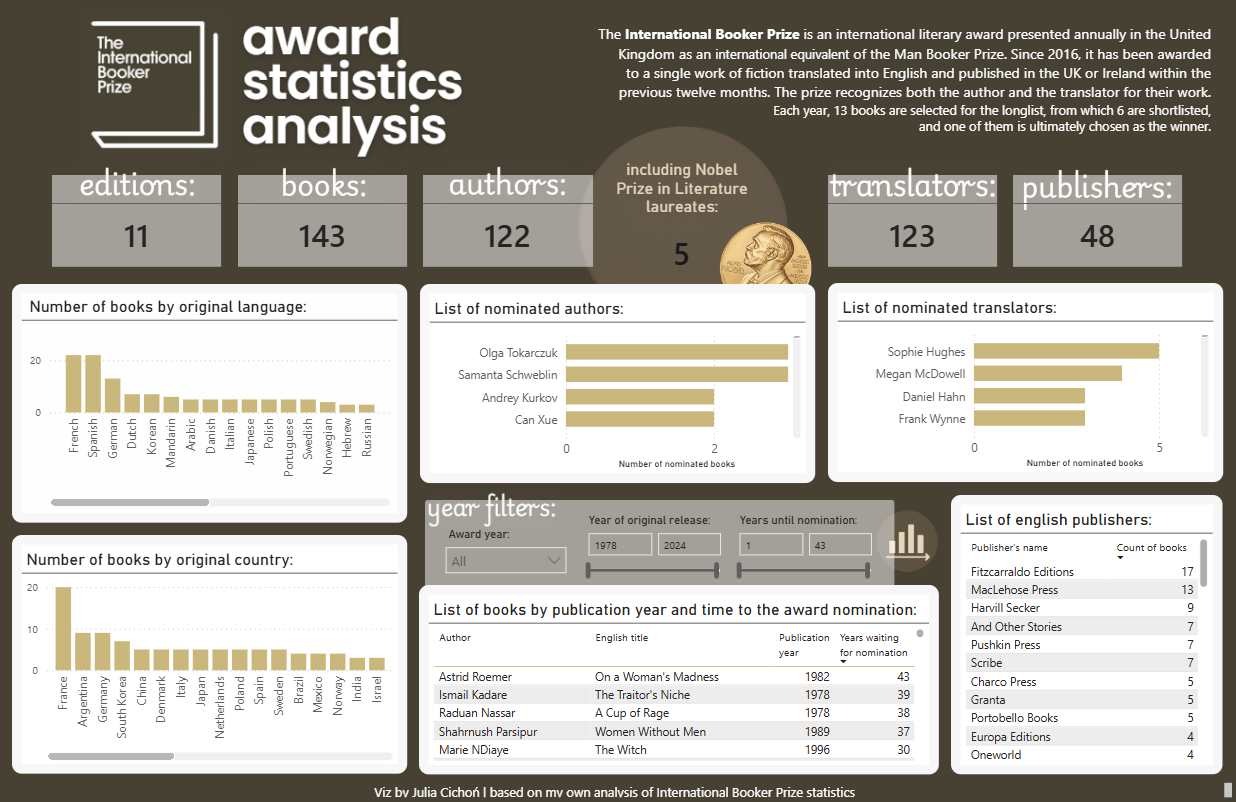

The dashboard page shown, as its layout file describes it:
{"tool":"powerbi","page":{"name":"Home Page","canvas":[1280,830],"ordinal":0},"visuals":[{"type":"image","box":[438.8,150.1,174,80],"z":0},{"type":"image","box":[903,522,71.4,78.7],"z":1000},{"type":"image","box":[578.5,112.8,254.6,248.4],"z":2000},{"type":"image","box":[440,500,138.7,54.9],"z":3000},{"type":"image","box":[439.8,517.5,486.4,93.1],"z":4000},{"type":"image","box":[85.9,0,403.6,185.2],"z":5000},{"type":"clusteredColumnChart","title":"Number of books by original country:","fields":{"Category":["original_editions.country"],"Y":["CountNonNull(original_editions.id)"]},"box":[12.4,553.7,409,247],"z":6000},{"type":"clusteredBarChart","title":"List of nominated translators:","fields":{"Category":["Translators_all.translators"],"Y":["CountNonNull(Translators_all.id)"]},"box":[856.9,292.9,409,205.6],"z":7000},{"type":"clusteredColumnChart","title":"Number of books by original language:","fields":{"Category":["original_editions.language"],"Y":["CountNonNull(original_editions.id)"]},"box":[12,293.9,409,247],"z":8000},{"type":"cardVisual","title":"including Nobel Prize in Literature laureates:","fields":{"Data":["nobel_prize.common"]},"box":[632.3,160.4,147,137.6],"z":9000},{"type":"tableEx","title":"List of english publishers:","fields":{"Values":["english_editions.publisher","CountNonNull(english_editions.id)"]},"box":[984.2,512.3,281,288.7],"z":10000},{"type":"slicer","fields":{"Values":["original_editions.year_waiting"]},"box":[752.4,526.8,161.6,74.5],"z":11000},{"type":"slicer","fields":{"Values":["original_editions.Year"]},"box":[596.1,526.8,161.6,74.5],"z":12000},{"type":"slicer","fields":{"Values":["nominations.award_year"]},"box":[451.2,541.3,144.9,65.2],"z":13000},{"type":"textbox","box":[0,805.2,1279.8,24.9],"z":14000},{"type":"tableEx","title":"List of books by publication year and time to the award nomination:","fields":{"Values":["original_editions.author","english_editions.english_title","original_editions.Year","Sum(original_editions.year_waiting)"]},"box":[433.6,605.4,538,195.6],"z":15000},{"type":"image","box":[54.9,150,174,80],"z":16000},{"type":"image","box":[856.9,150.1,174.9,80],"z":17000},{"type":"cardVisual","title":" ","fields":{"Data":["Count(Translators_all.Translators)"]},"box":[856.9,181,175,95.2],"z":18000},{"type":"cardVisual","title":" ","fields":{"Data":["CountNonNull(awards.year_edition)"]},"box":[54,181.1,175,95.2],"z":19000},{"type":"image","box":[246.3,150.1,174,80],"z":20000},{"type":"cardVisual","title":" ","fields":{"Data":["CountNonNull(original_editions.id)"]},"box":[246.3,181.1,175,95.2],"z":21000},{"type":"image","box":[1048.4,156,174,80],"z":22000},{"type":"cardVisual","title":" ","fields":{"Data":["Count(english_editions.publisher)"]},"box":[1048,181.1,175,95.2],"z":23000},{"type":"cardVisual","title":" ","fields":{"Data":["Count(original_editions.author)"]},"box":[438,181.1,175.9,95.2],"z":24000},{"type":"textbox","box":[605.4,19.7,653,130.4],"z":25000},{"type":"pieChart","fields":{"Y":["CountNonNull(nominations.id)"]},"box":[890,517.5,96.2,85.9],"z":26000},{"type":"image","box":[728.6,229.8,128.3,96.2],"z":27000},{"type":"clusteredBarChart","title":"List of nominated authors:","fields":{"Category":["original_editions.author"],"Y":["CountNonNull(original_editions.id)"]},"box":[434.7,293.9,409,205.6],"z":28000}]}

Visuals, with their boxes in screenshot pixels (x1, y1, x2, y2), scaled from the page's 1280x830 canvas onto the 1236x802 screenshot:
image: 424/145/592/222
image: 872/504/941/580
image: 559/109/804/349
image: 425/483/559/536
image: 425/500/894/590
image: 83/0/473/179
"Number of books by original country:" clusteredColumnChart: 12/535/407/774
"List of nominated translators:" clusteredBarChart: 827/283/1222/482
"Number of books by original language:" clusteredColumnChart: 12/284/407/523
"including Nobel Prize in Literature laureates:" cardVisual: 611/155/753/288
"List of english publishers:" tableEx: 950/495/1222/774
slicer - original_editions.year_waiting: 727/509/883/581
slicer - original_editions.Year: 576/509/732/581
slicer - nominations.award_year: 436/523/576/586
textbox: 0/778/1235/801
"List of books by publication year and time to the award nomination:" tableEx: 419/585/938/774
image: 53/145/221/222
image: 827/145/996/222
" " cardVisual: 827/175/996/267
" " cardVisual: 52/175/221/267
image: 238/145/406/222
" " cardVisual: 238/175/407/267
image: 1012/151/1180/228
" " cardVisual: 1012/175/1181/267
" " cardVisual: 423/175/593/267
textbox: 585/19/1215/145
pieChart - CountNonNull(nominations.id): 859/500/952/583
image: 704/222/827/315
"List of nominated authors:" clusteredBarChart: 420/284/815/483
